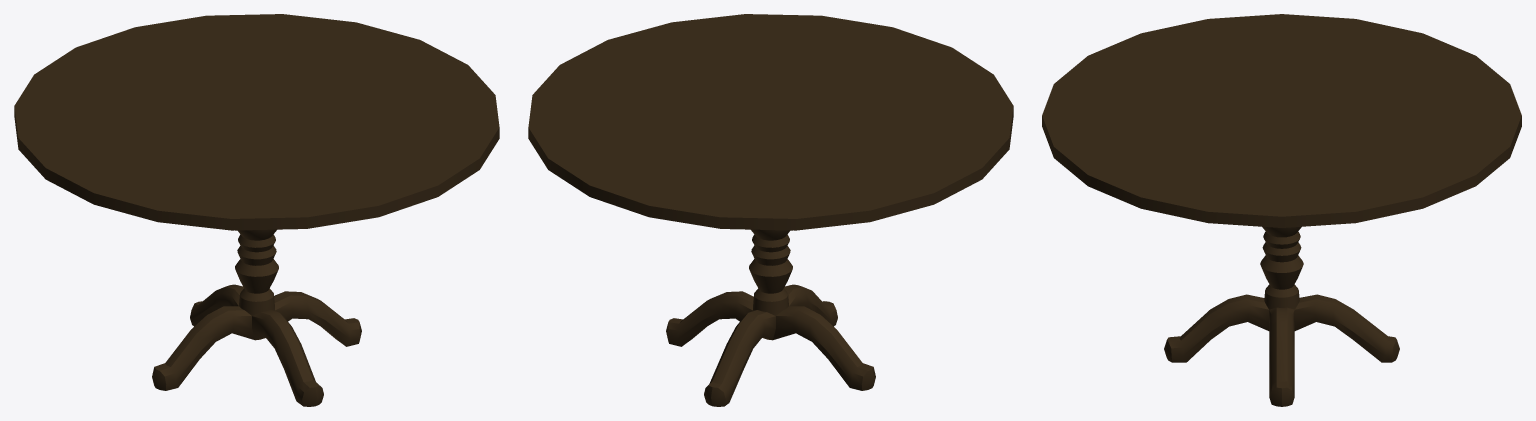
File: Tisch_ganz3 (1).fbx
The picture shows the model from 3 angles, left to right: view 1: azimuth 30°, elevation 25°; view 2: azimuth 150°, elevation 25°; view 3: azimuth 270°, elevation 25°; orthographic projection.
Visible parts, largest first — view 1: table_whole_lp; view 2: table_whole_lp; view 3: table_whole_lp.
Boxes of the visible parts, x1,y1,x2,y2 form: table_whole_lp: [14, 14, 499, 406]; table_whole_lp: [528, 14, 1013, 406]; table_whole_lp: [1042, 14, 1521, 406].
Bounding box in the file's own units: 230 × 129 × 230.
